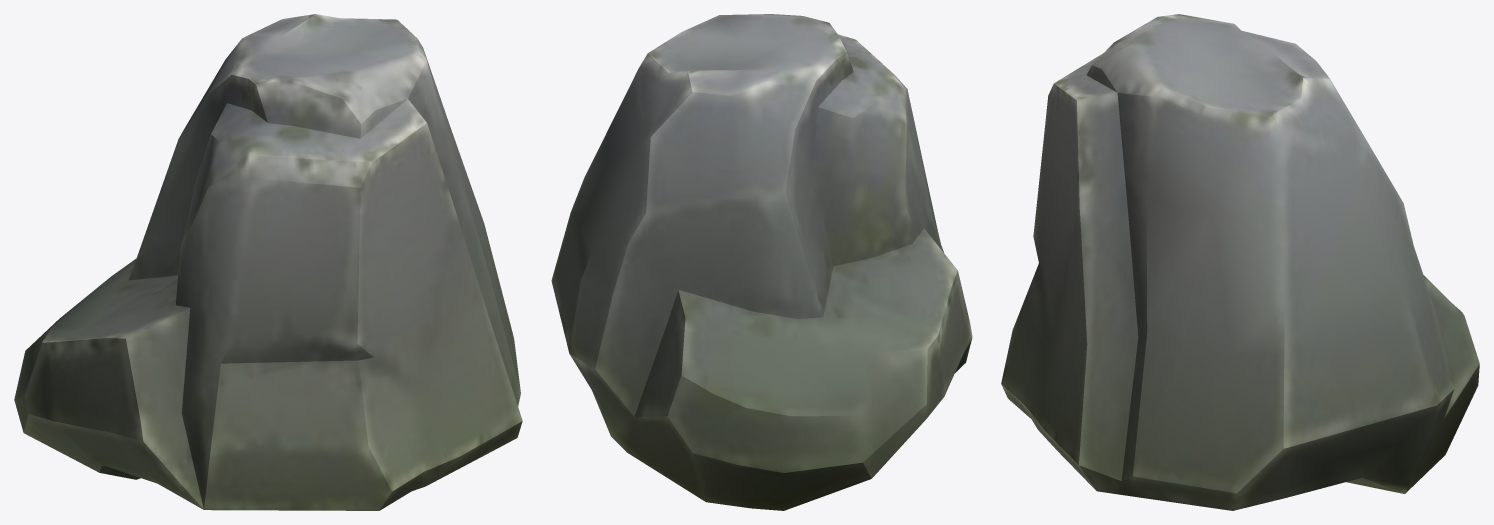
The model's file is sea_stack_b.glb.
3 renders of one model, left to right at view 1: azimuth 30°, elevation 25°; view 2: azimuth 150°, elevation 25°; view 3: azimuth 270°, elevation 25°, orthographic. The views are drawn at different scales.
Parts seen in each view (by area): view 1: Rock_Medium_1; view 2: Rock_Medium_1; view 3: Rock_Medium_1.
Boxes of the visible parts, bbox=[...] form: Rock_Medium_1: bbox=[14, 14, 522, 510]; Rock_Medium_1: bbox=[551, 14, 972, 510]; Rock_Medium_1: bbox=[1001, 14, 1479, 510].
Size of the model in its own units: 19.35 by 18.08 by 17.93.
1 material, 1 textured.
